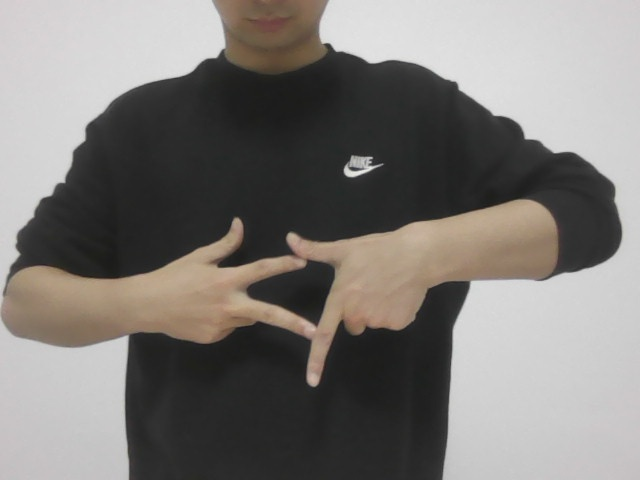introduce: (138, 206, 430, 385)
